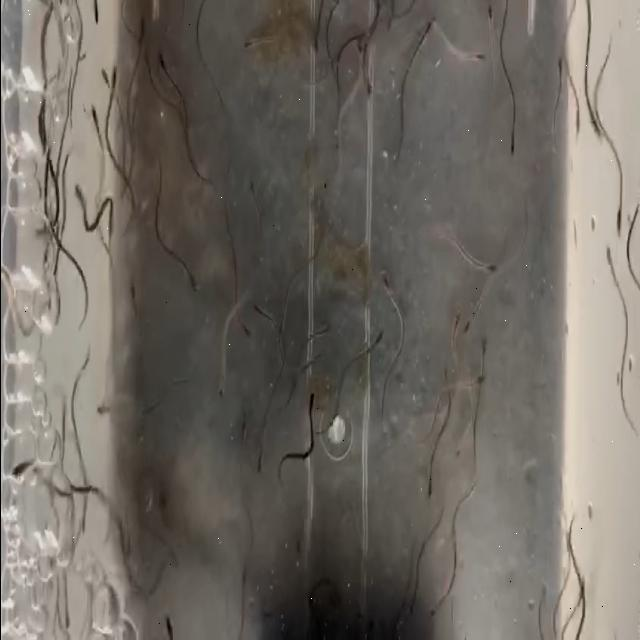active_glass_eel: (503, 114, 523, 170), (484, 235, 502, 293), (86, 392, 112, 432), (94, 60, 112, 114), (378, 265, 396, 317), (252, 434, 268, 492), (585, 102, 607, 144), (286, 473, 306, 519), (472, 29, 493, 72), (424, 582, 444, 627), (70, 166, 91, 208), (604, 191, 626, 231), (243, 15, 263, 58), (444, 308, 464, 346), (248, 177, 264, 224), (372, 320, 389, 364), (430, 445, 450, 482), (397, 56, 413, 101), (238, 314, 256, 352), (550, 56, 566, 98), (475, 317, 493, 354), (86, 91, 100, 138), (570, 102, 584, 146), (318, 304, 336, 338), (476, 3, 498, 30), (212, 371, 228, 407), (476, 363, 490, 403), (599, 242, 615, 274), (156, 48, 170, 84), (251, 296, 263, 332), (455, 428, 466, 458), (138, 22, 152, 44), (188, 272, 200, 296)
